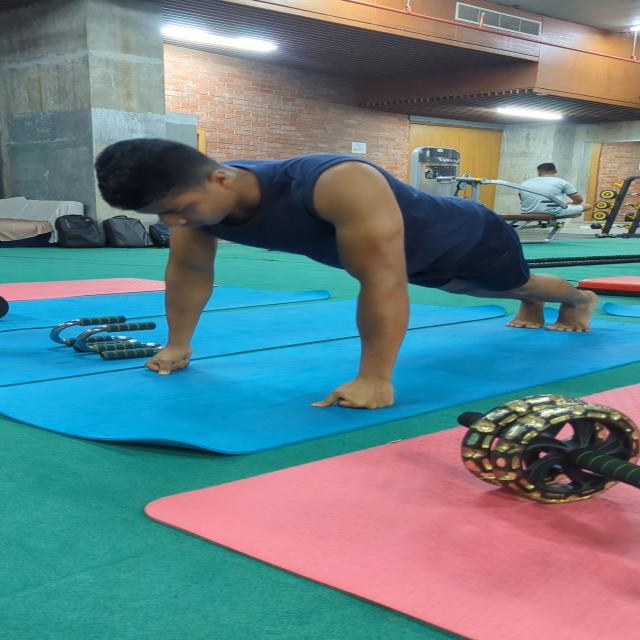Normal_PushUps: (68, 132, 640, 413)
